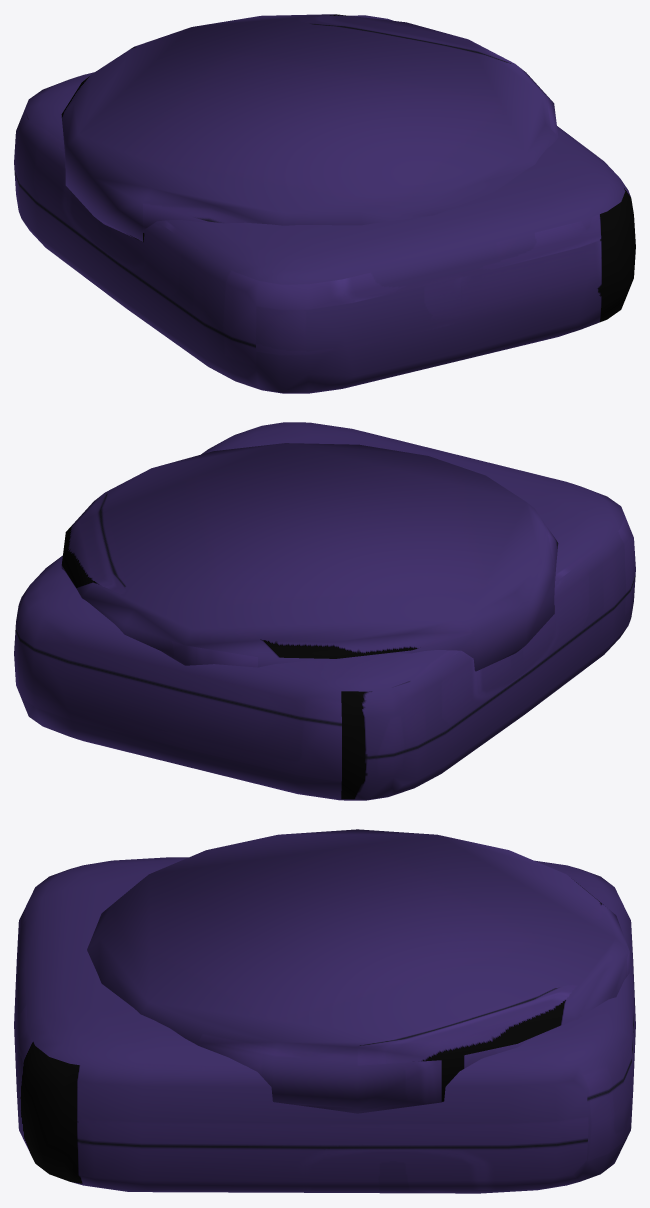
File: Estela_BotaDer.fbx
3 renders of one model, top to bottom at view 1: azimuth 30°, elevation 25°; view 2: azimuth 150°, elevation 25°; view 3: azimuth 270°, elevation 25°, orthographic. The views are drawn at different scales.
Visible parts, largest first — view 1: Estela_BotaDer; view 2: Estela_BotaDer; view 3: Estela_BotaDer.
Boxes of the visible parts, x1=… form: Estela_BotaDer: x1=14, y1=14, x2=635, y2=393; Estela_BotaDer: x1=14, y1=422, x2=635, y2=800; Estela_BotaDer: x1=14, y1=829, x2=635, y2=1193.
Size of the model in its own units: 1.19 by 0.4013 by 1.36.
